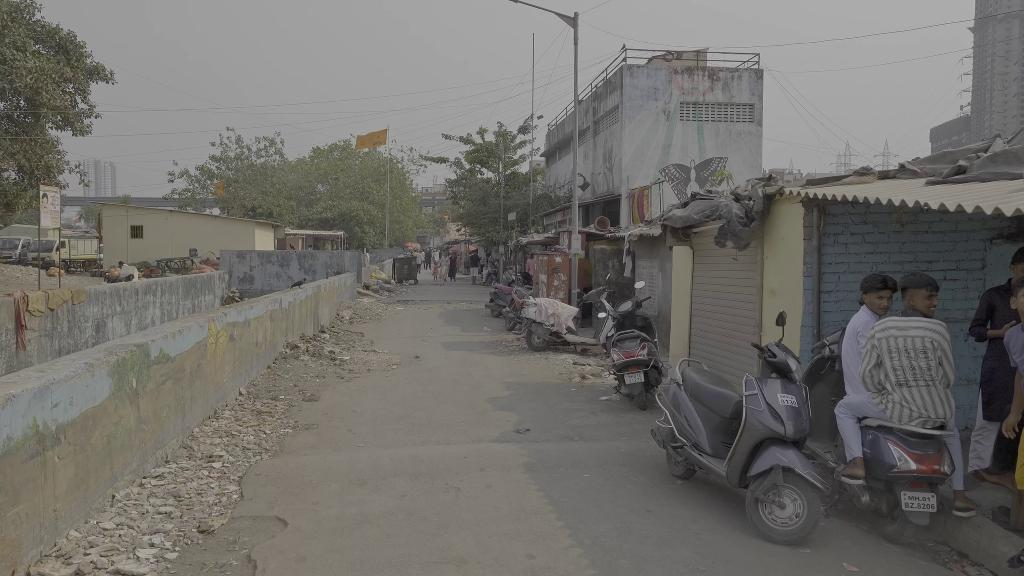dustbin: (395, 254, 423, 289)
